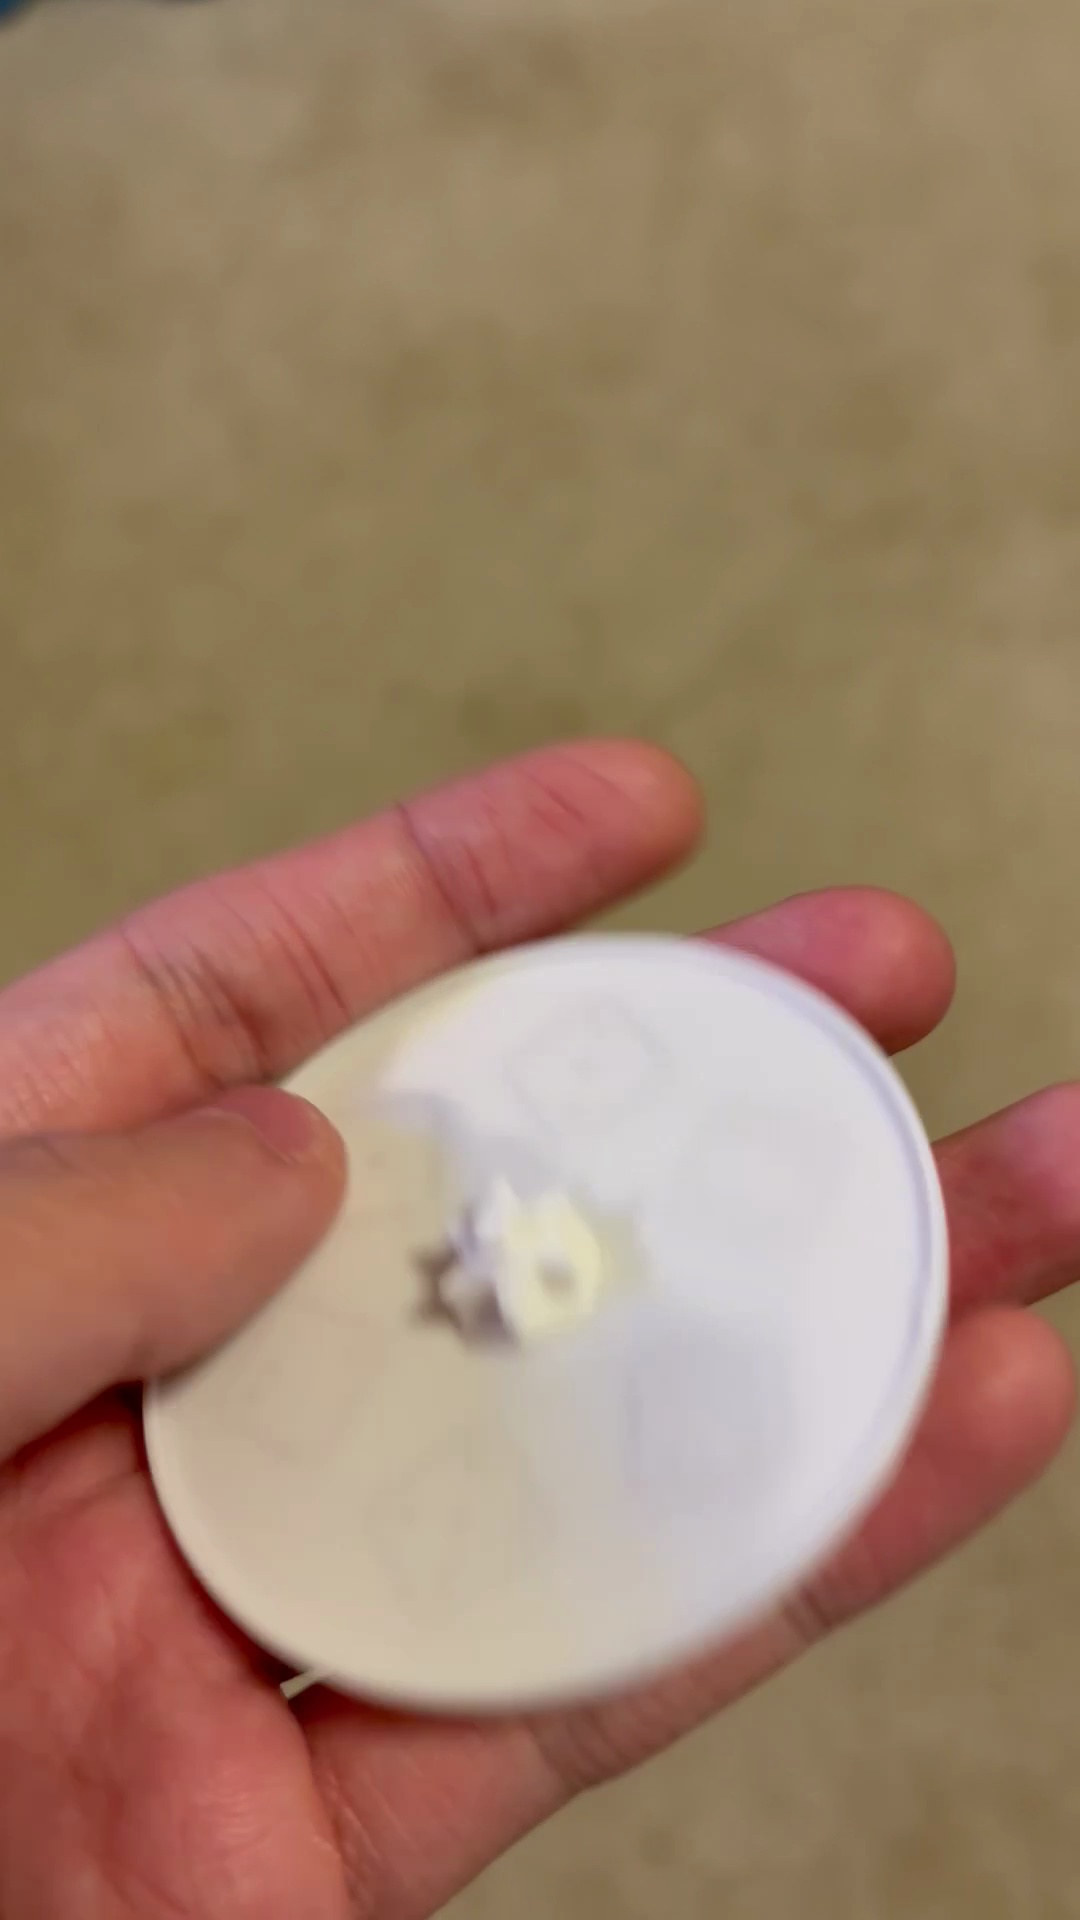Part1: (144, 936, 945, 1712)
